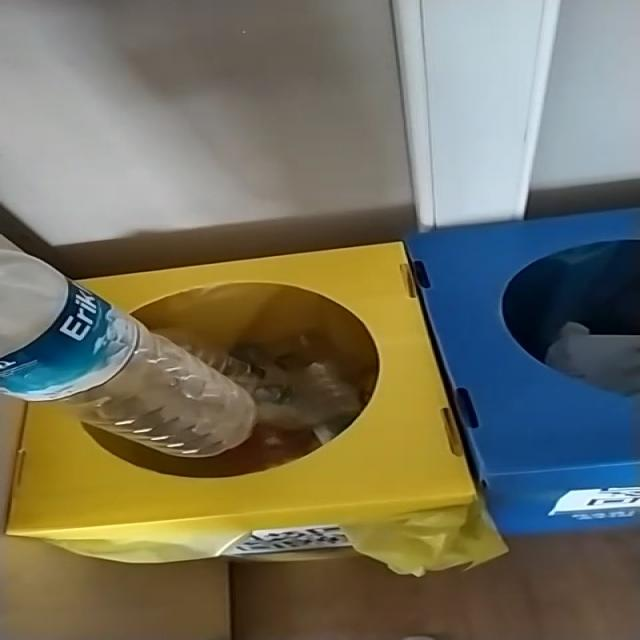plastic: (1, 250, 257, 458)
